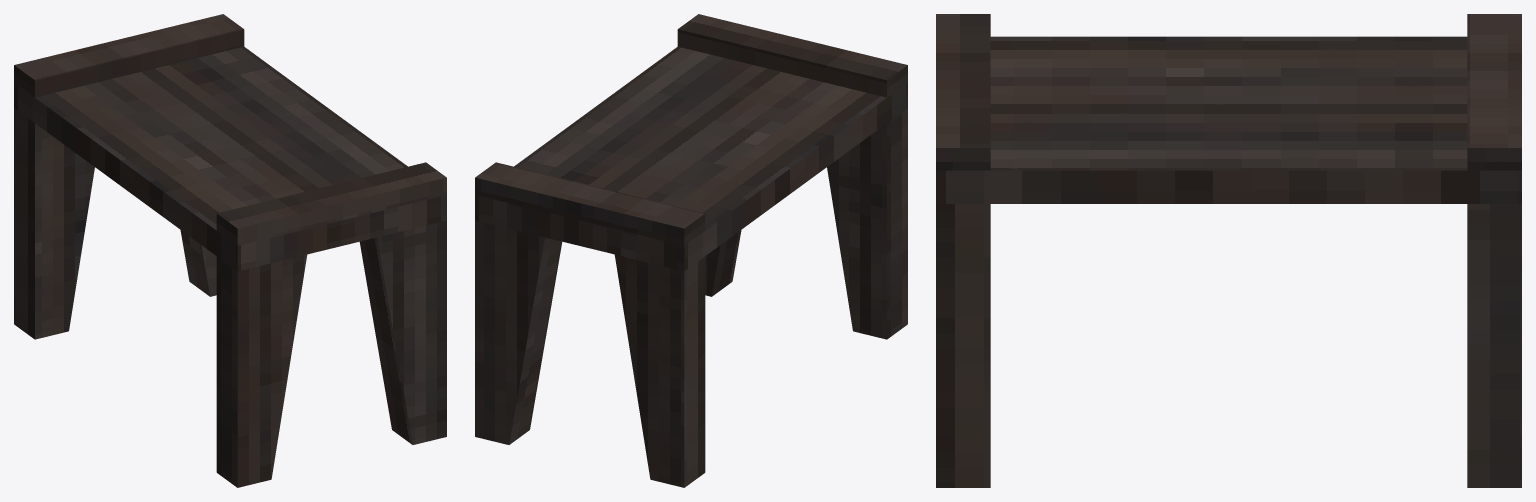
The model's file is table_2.gltf.
3 renders of one model, left to right at view 1: azimuth 30°, elevation 25°; view 2: azimuth 150°, elevation 25°; view 3: azimuth 270°, elevation 25°, orthographic. The views are drawn at different scales.
Visible parts, largest first — view 1: Table_1; view 2: Table_1; view 3: Table_1.
Part boxes in pixels (x1,y1,x2,y2): Table_1: [14, 14, 446, 487]; Table_1: [475, 14, 907, 487]; Table_1: [936, 14, 1521, 487].
Size of the model in its own units: 0.8345 by 0.9882 by 1.54.
Materials: 1 (1 with a texture image).
